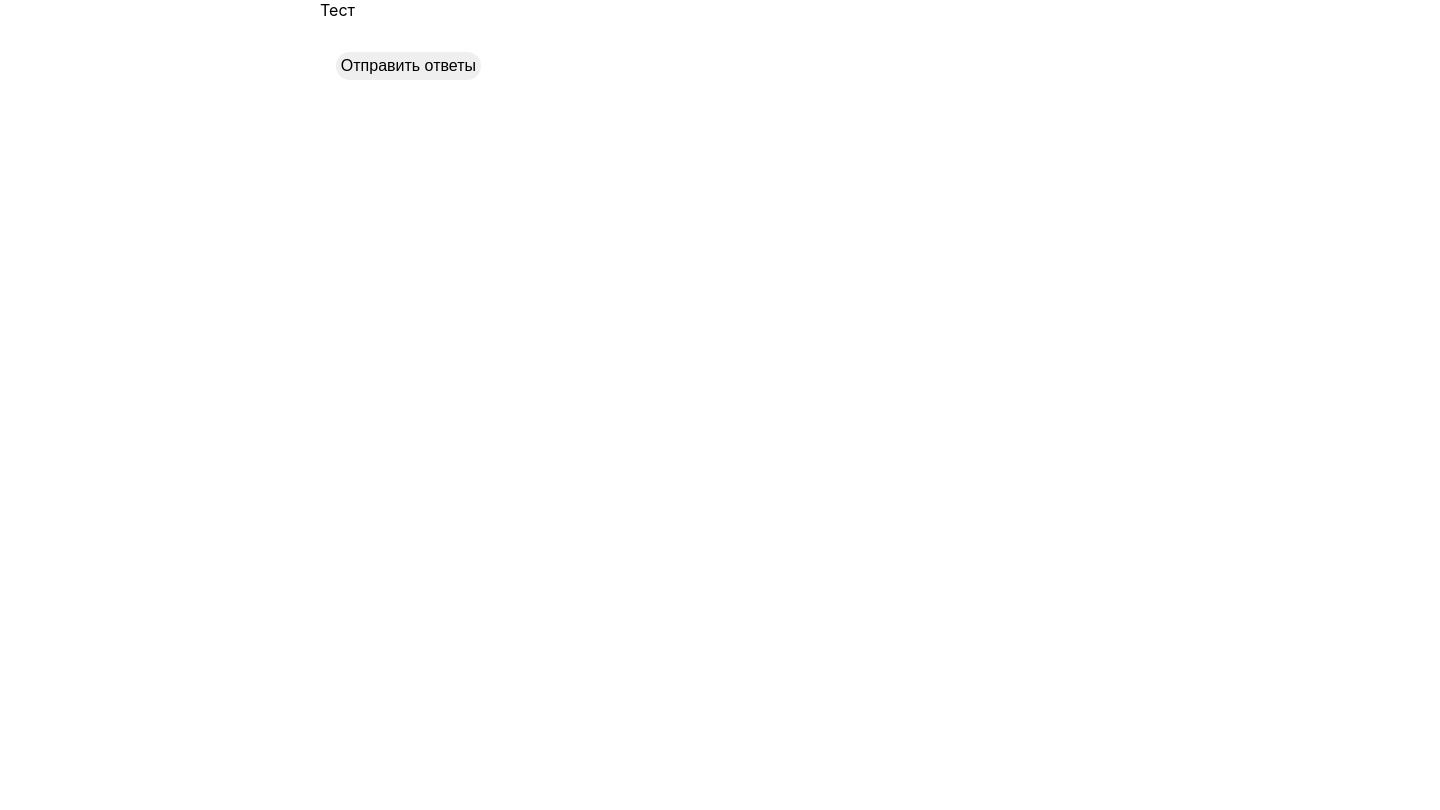
Test: Test test › should be able to close popup
Submit the form from the button "Отправить ответы", box [336,52,481,80]
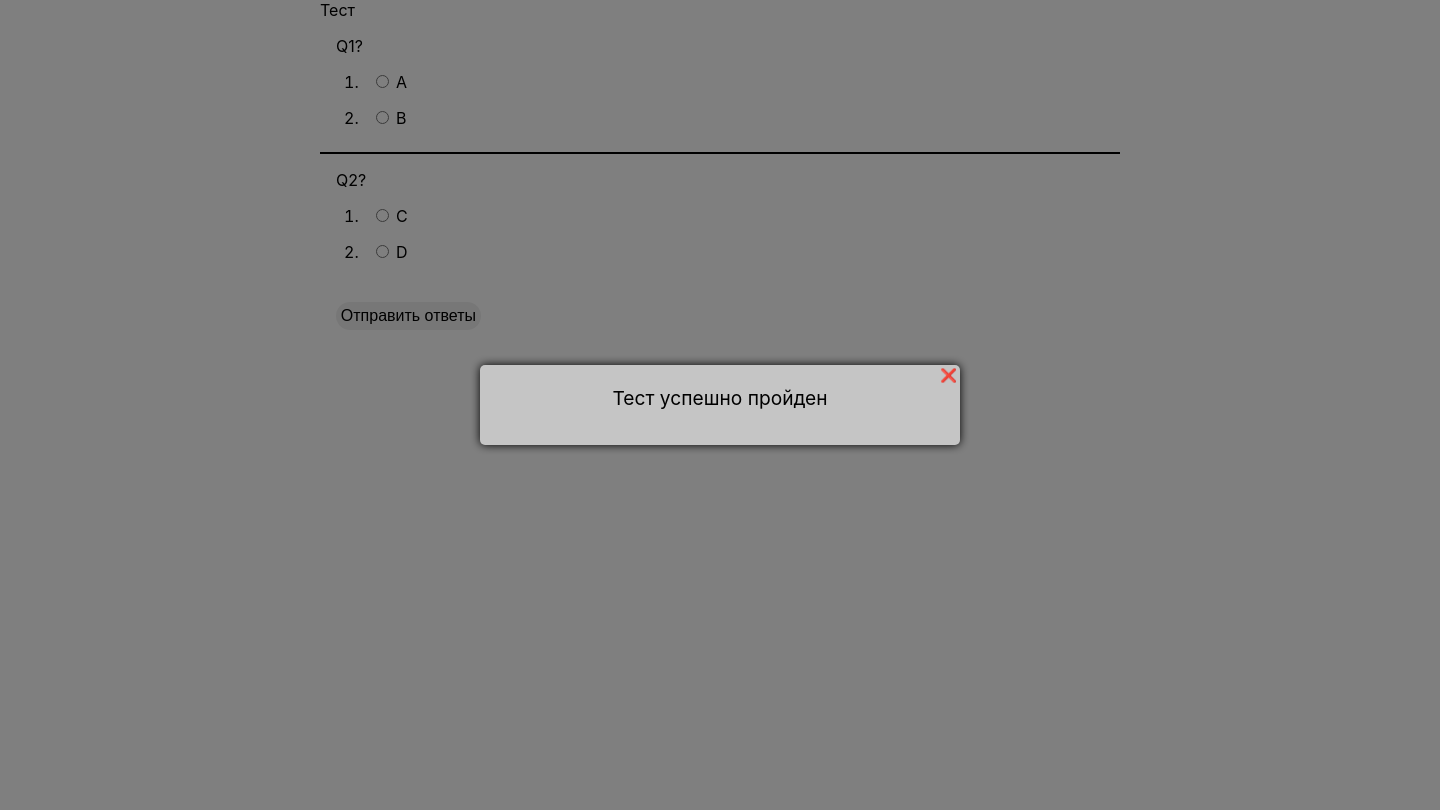
Expected: the button with class "DeleteButton" is shown
Click the button with class "DeleteButton".
click(948, 376)  # box [940,368,957,383]
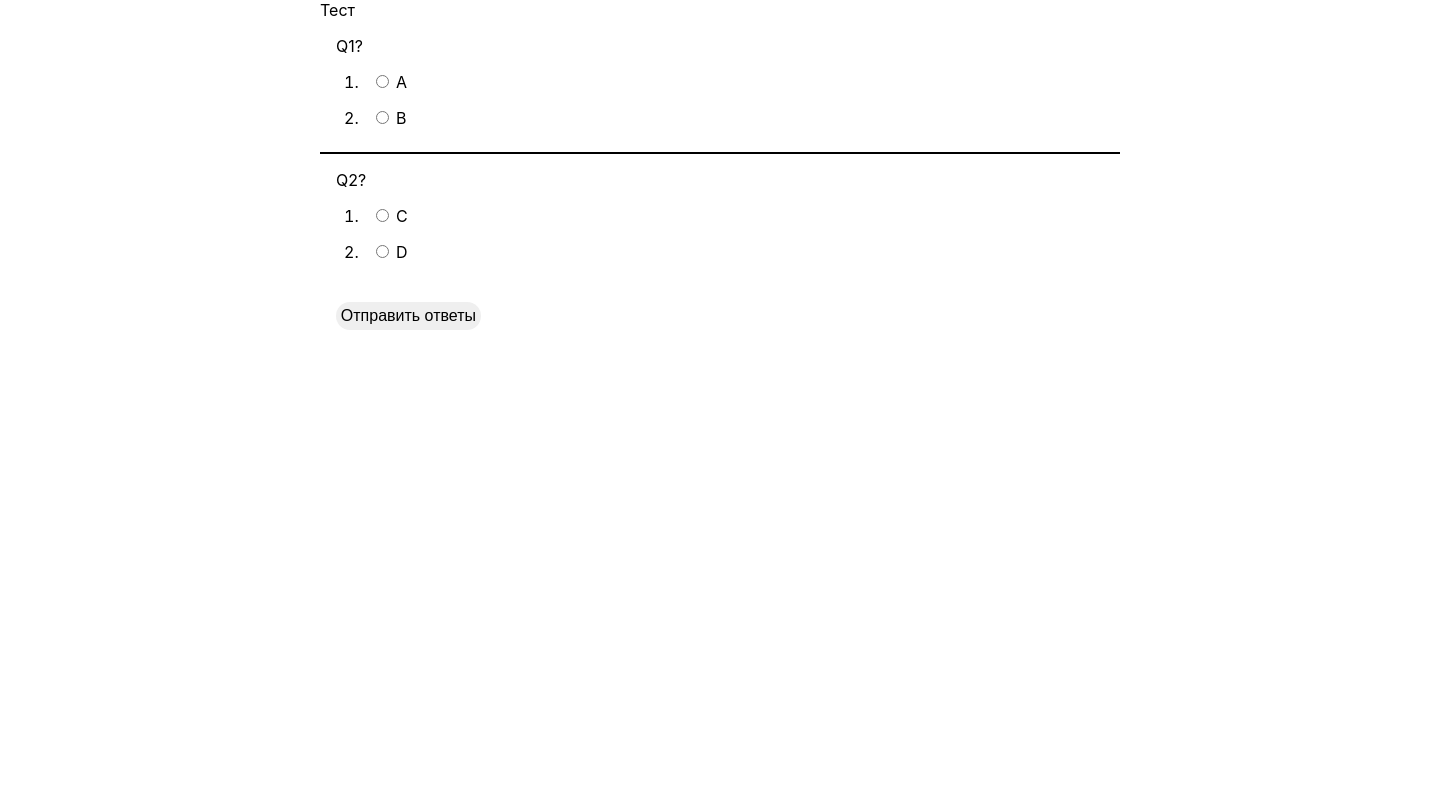
Expected: the text "Тест успешно пройден" is gone
